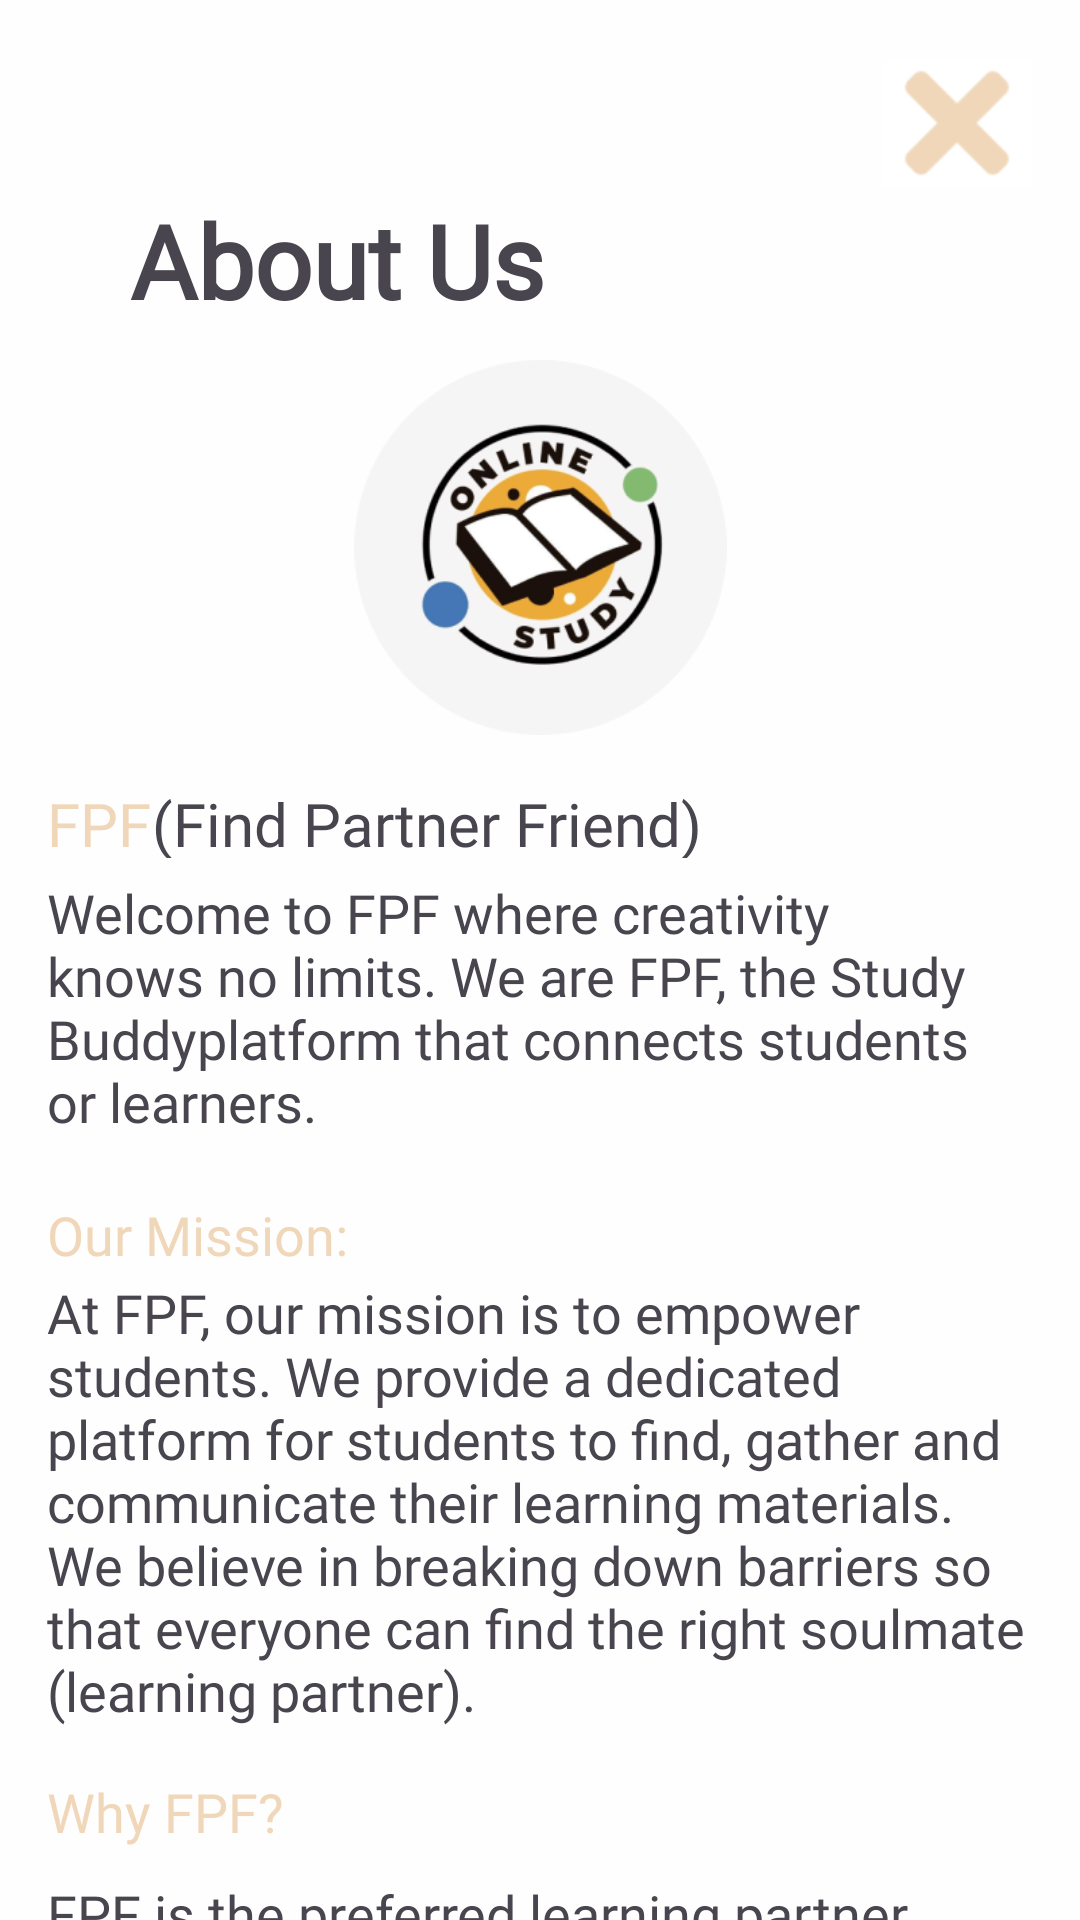

Icon click points for this 1080×1920 phone screenshot, format [x,y]:
cross: [957,123]
